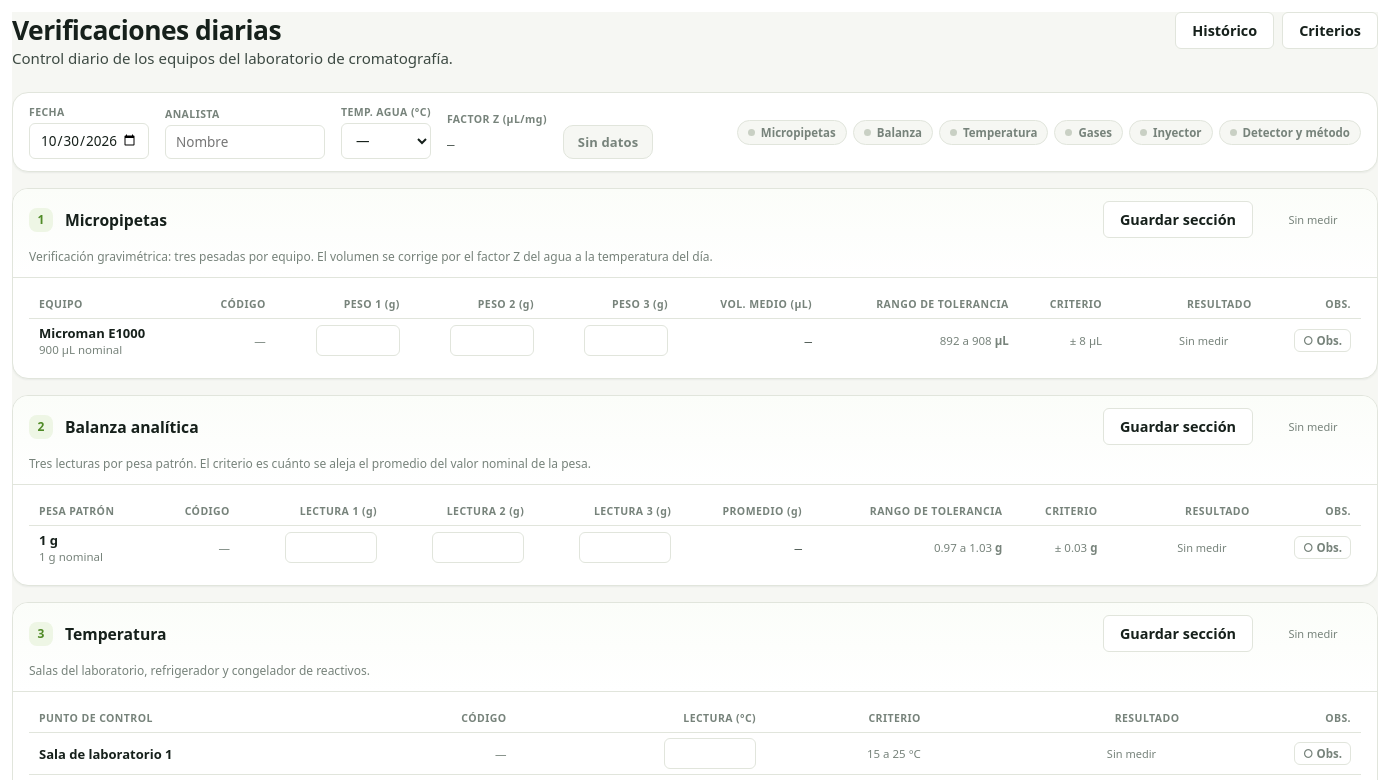
Scenario: VerificacionesView › calcula el factor Z desde la temperatura del agua
Expected: the text "Microman E1000" is shown, top-left (39, 324), bottom-right (145, 342)
Select "20 °C" in the dropdown labelled "Temp. agua (°C)" at (386,141), box top-left (341, 123), bottom-right (431, 159)
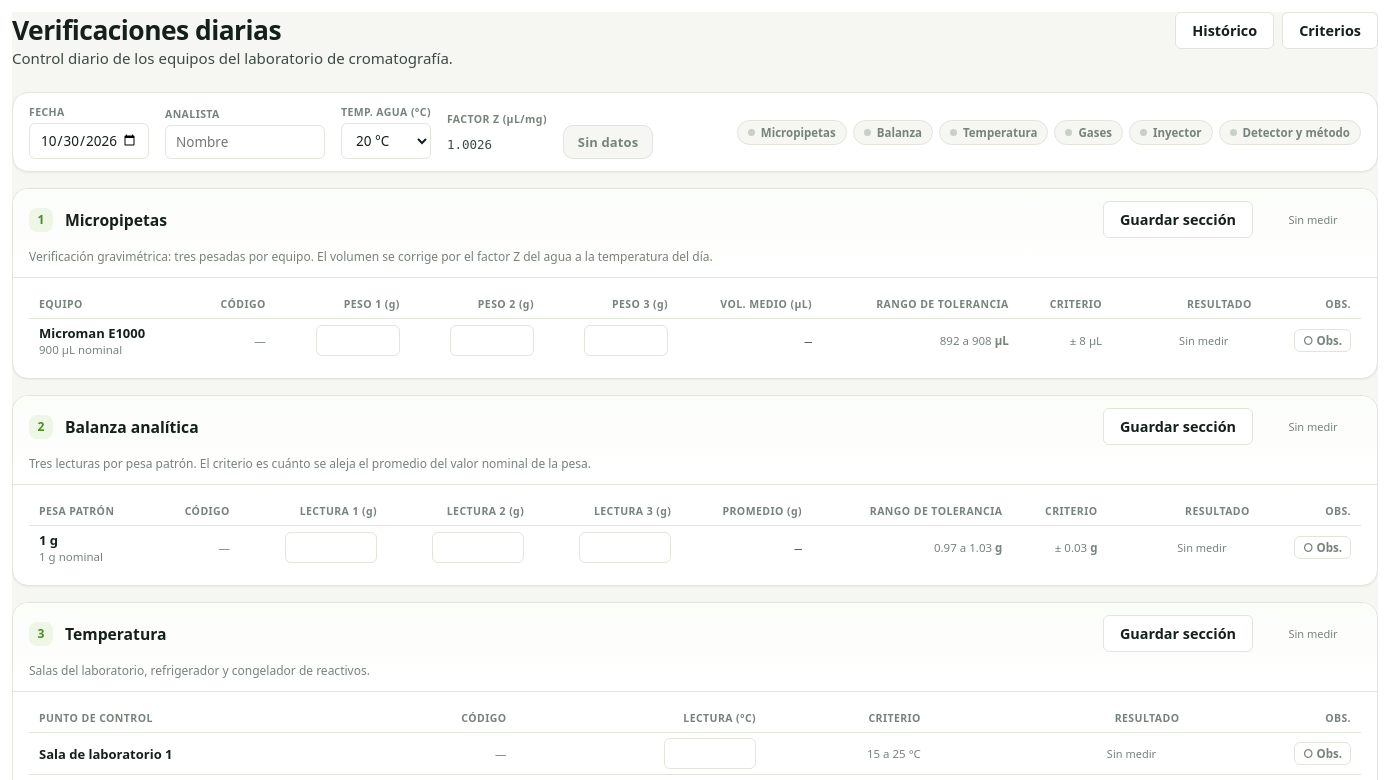
Result: the text "1.0026" is shown at top-left (447, 137), bottom-right (492, 152)
